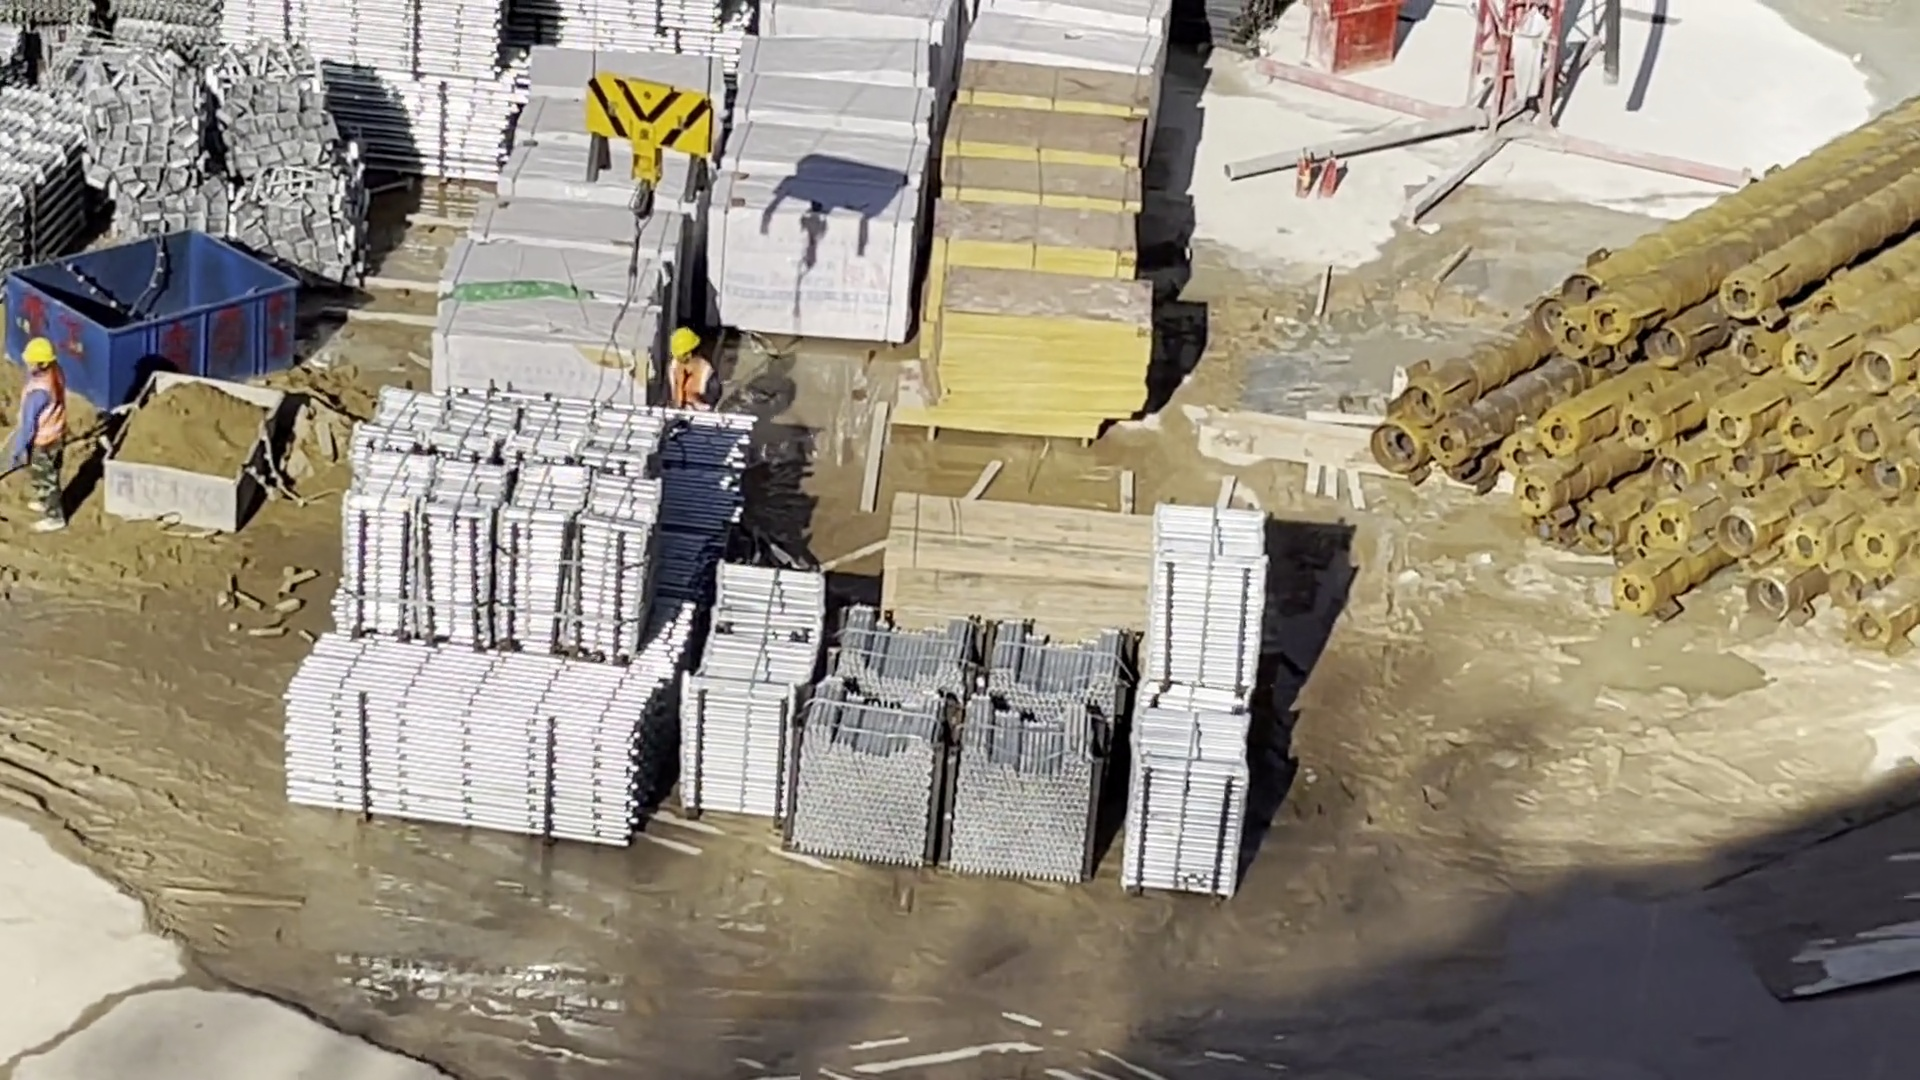helmet: (25, 330, 59, 372), (667, 323, 701, 363)
hook: (572, 54, 735, 199)
hopper: (10, 216, 312, 386), (111, 374, 281, 540)
person: (13, 330, 89, 551), (658, 319, 732, 412)
scaffold: (354, 378, 798, 853), (834, 580, 1108, 891), (1123, 467, 1254, 894), (2, 1, 109, 237)
vest: (22, 377, 68, 445), (658, 360, 719, 409)
